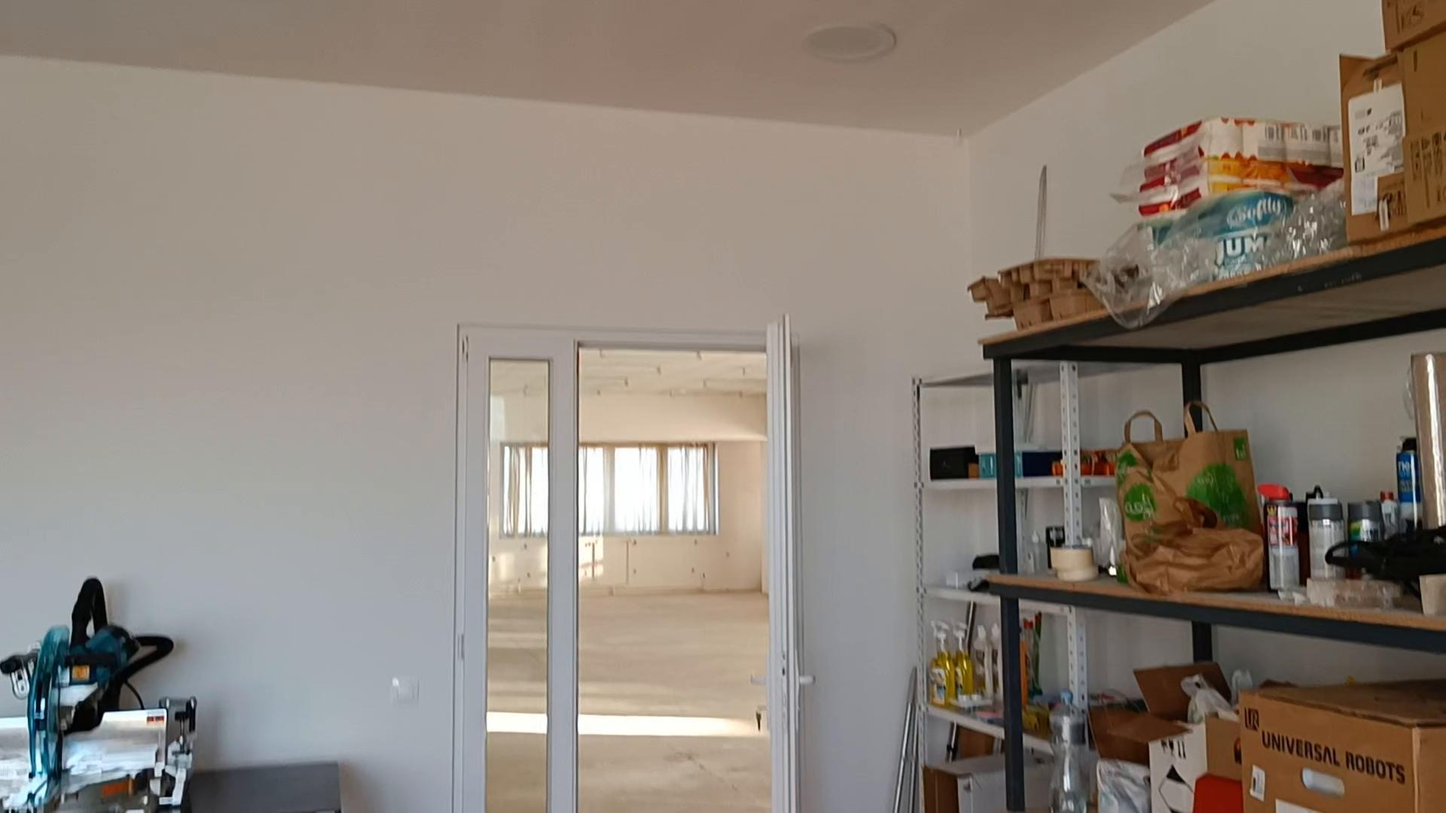ceiling: (0, 0, 1213, 133)
floor: (578, 592, 770, 812)
wall: (0, 0, 1381, 812)
